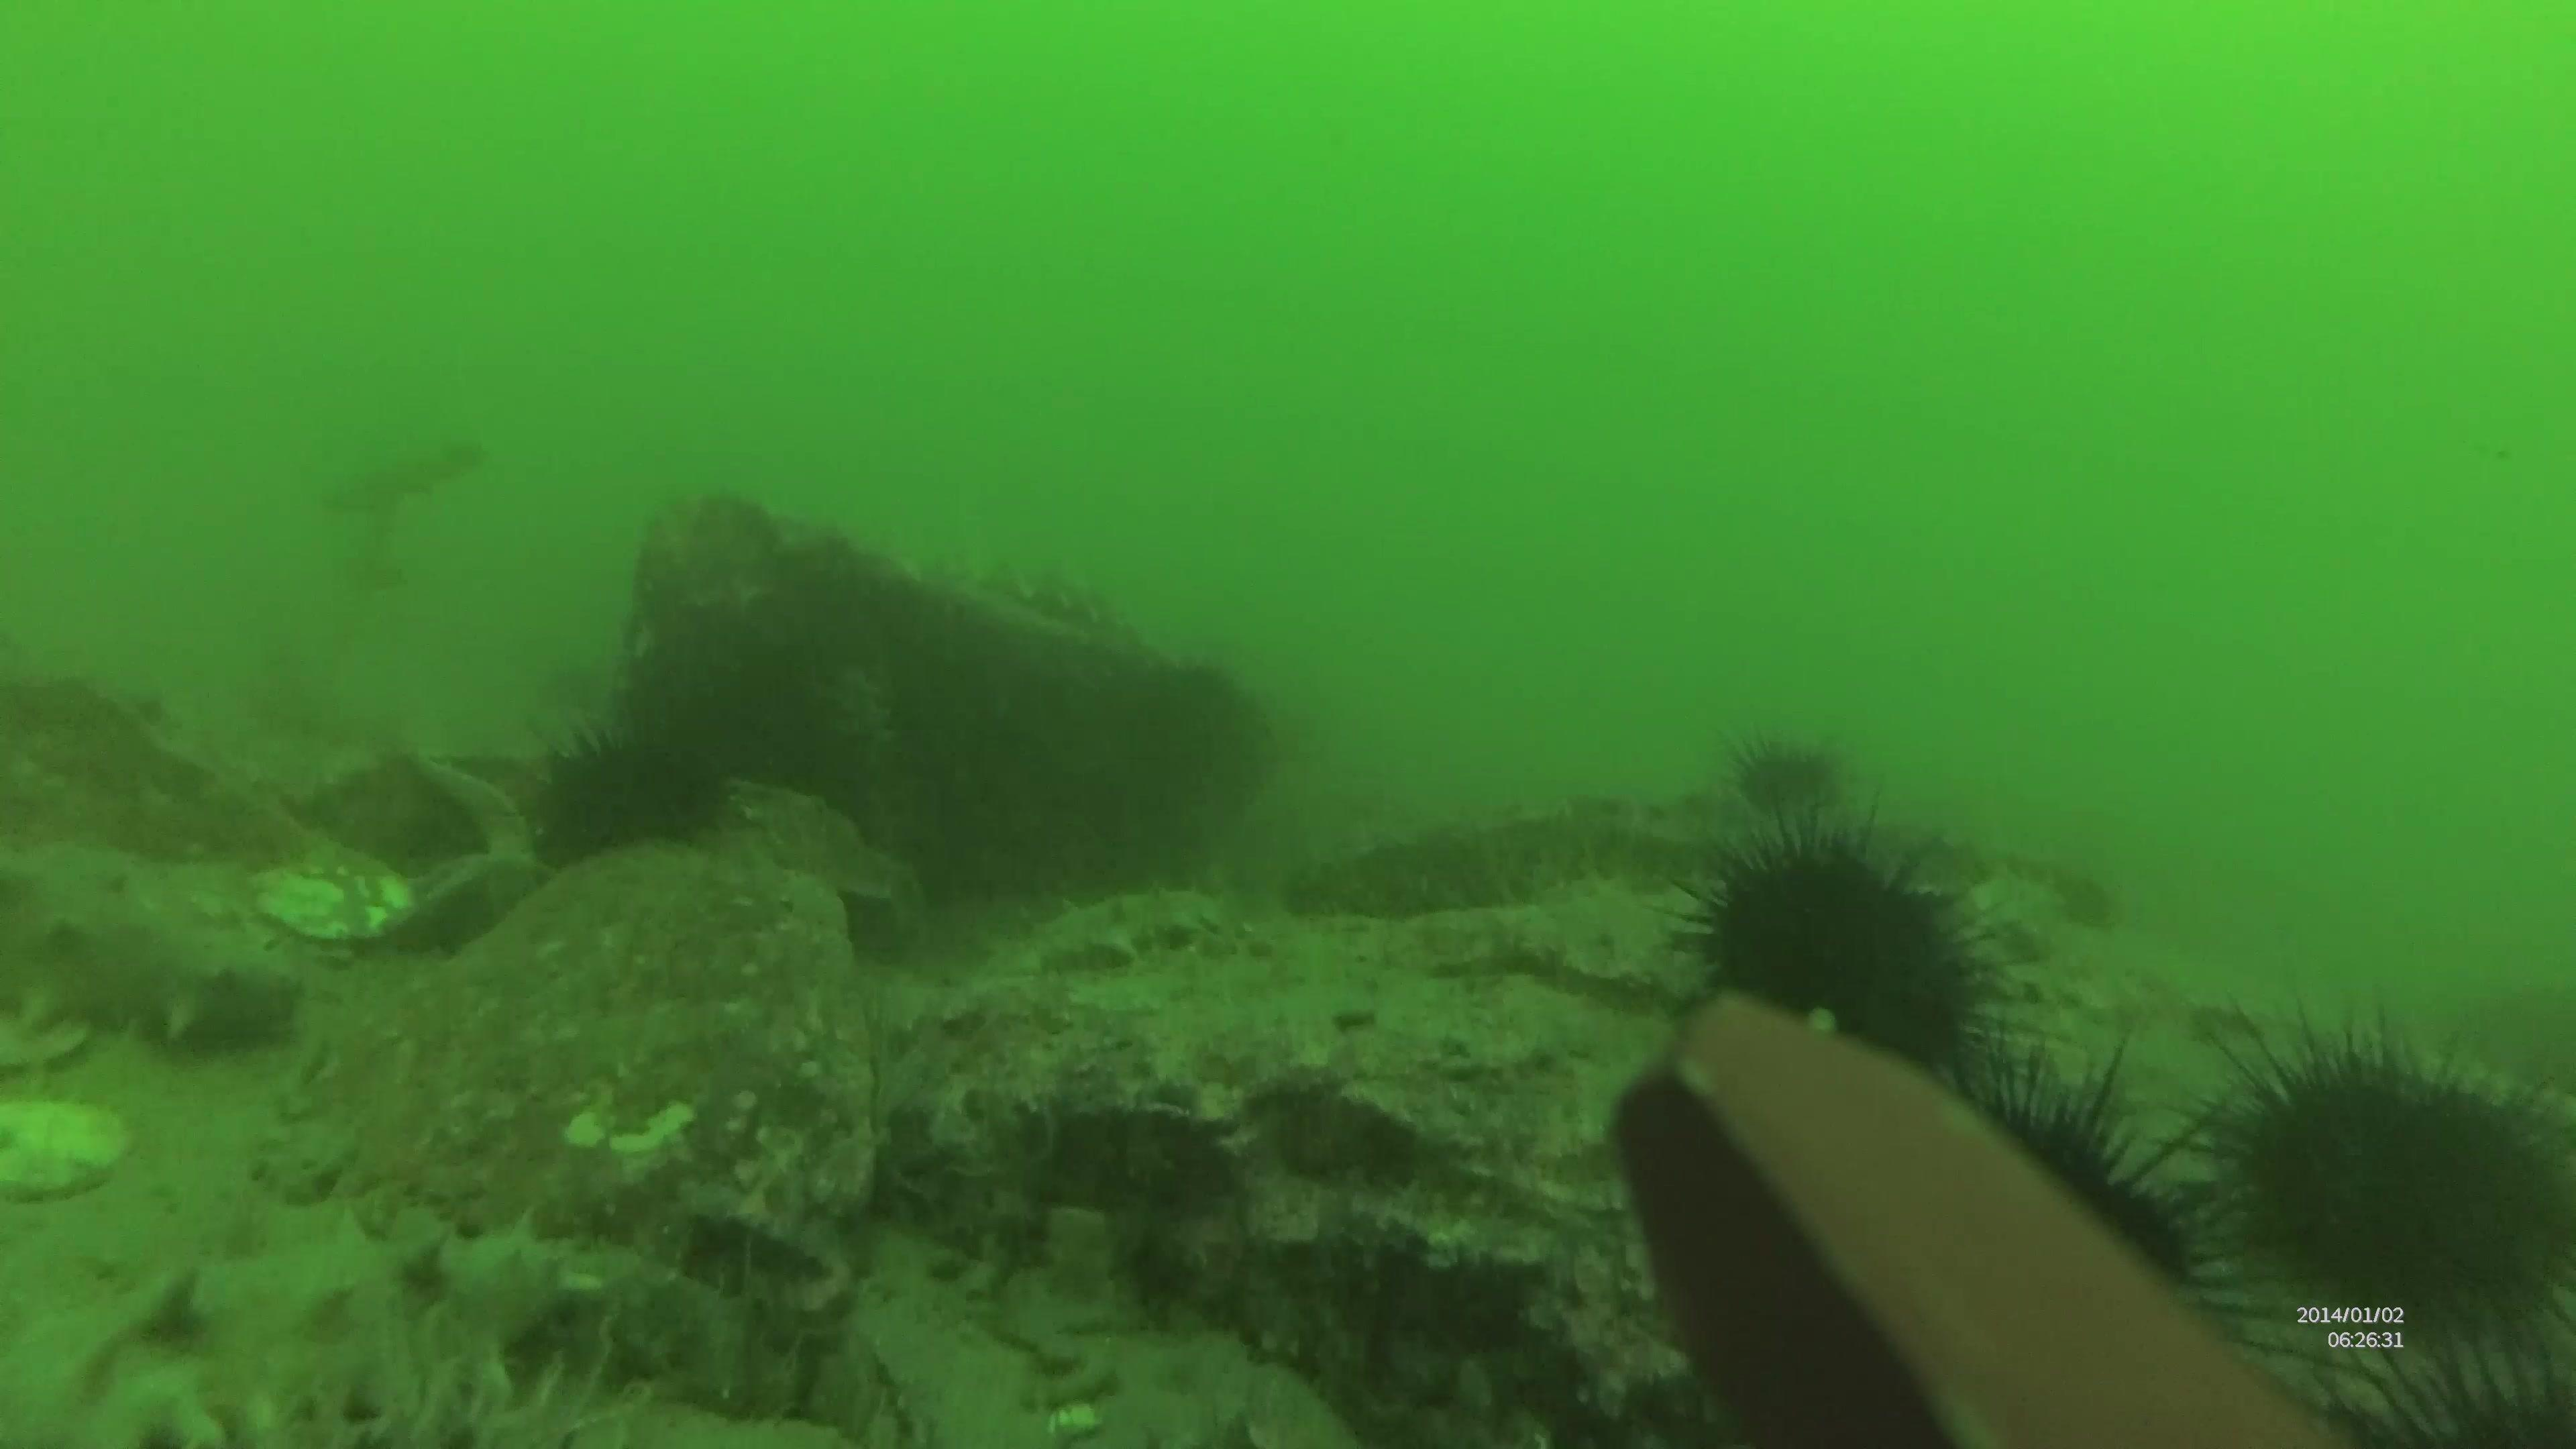echinus: (2208, 982, 2560, 1330), (1943, 1024, 2250, 1368), (1674, 828, 2019, 1054), (2321, 1309, 2576, 1444), (531, 708, 731, 863), (1729, 725, 1840, 810)
holothurian: (7, 1207, 600, 1449), (5, 828, 304, 1060), (970, 547, 1138, 633)
